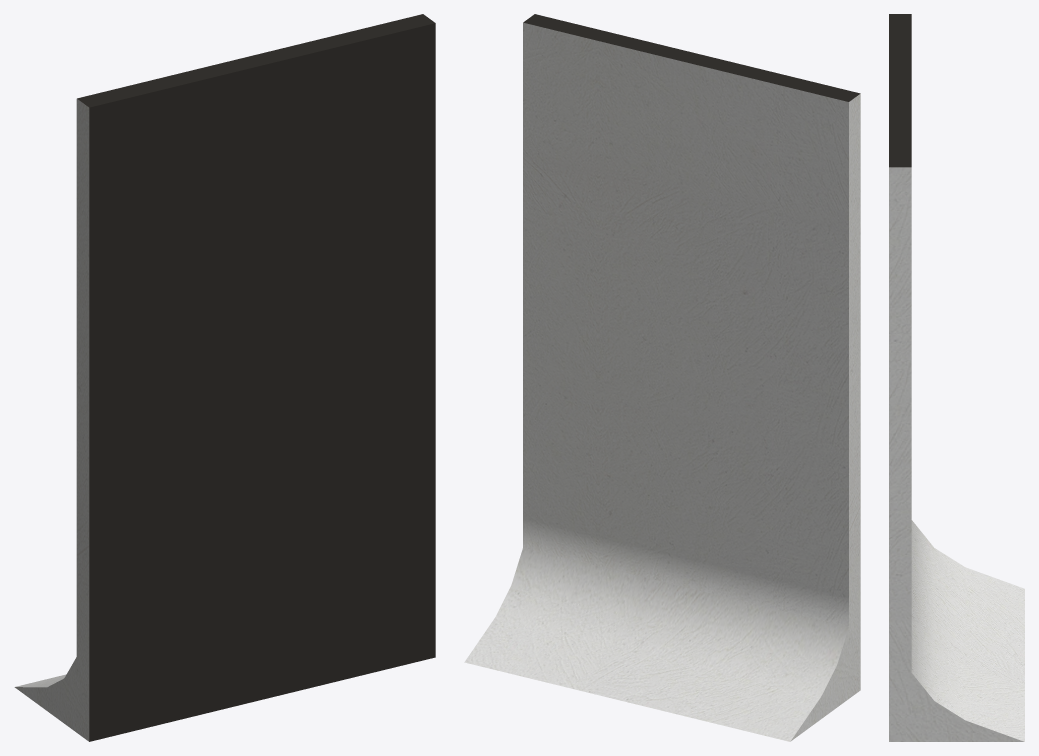
The model's file is VPS_Stage_LG.fbx.
The picture shows the model from 3 angles, left to right: view 1: azimuth 30°, elevation 25°; view 2: azimuth 150°, elevation 25°; view 3: azimuth 270°, elevation 25°; orthographic projection. The views are drawn at different scales.
Parts seen in each view (by area): view 1: CURVED_Wall_Double; view 2: CURVED_Wall_Double; view 3: CURVED_Wall_Double.
Part boxes in pixels (x1,y1,x2,y2): CURVED_Wall_Double: (14,14,435,741); CURVED_Wall_Double: (464,14,860,741); CURVED_Wall_Double: (889,14,1024,741).
Bounding box in the file's own units: 4 × 7 × 1.5.
Materials: 2 (1 with a texture image).
